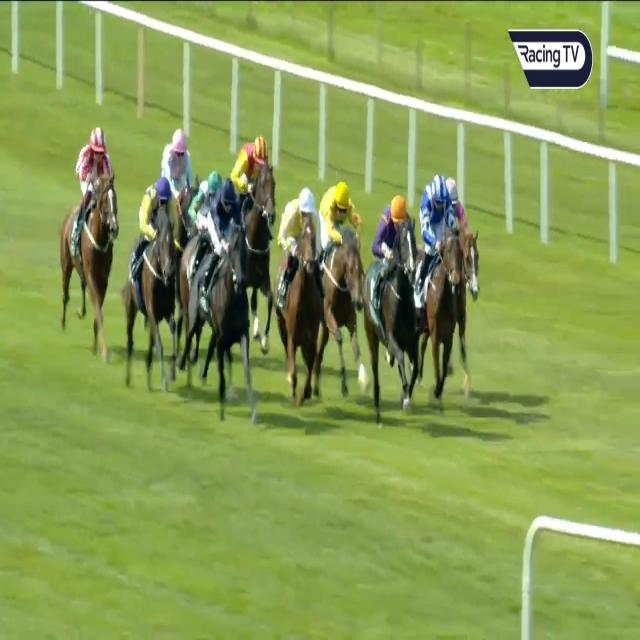horses-racing: (61, 128, 118, 362), (189, 181, 244, 420), (367, 195, 418, 406), (127, 181, 177, 385), (418, 172, 459, 408), (276, 188, 320, 397), (318, 179, 359, 402), (233, 138, 278, 332), (443, 175, 488, 304), (183, 173, 220, 273), (161, 126, 196, 195)
